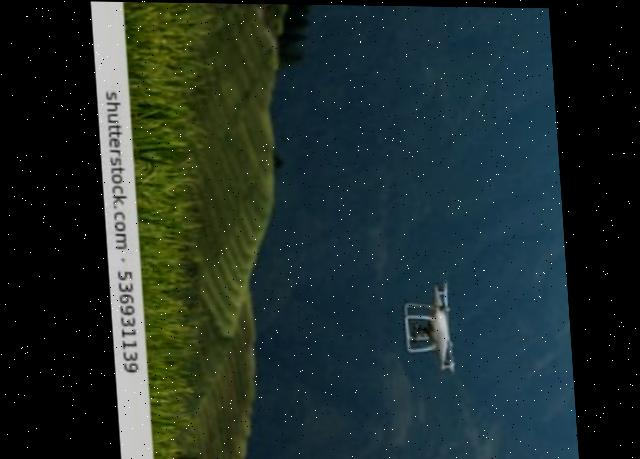drone: (392, 275, 460, 375)
